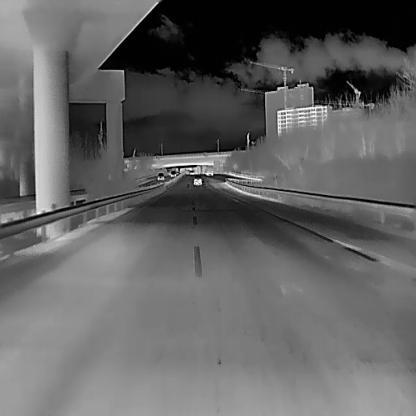car: (193, 173, 203, 185), (156, 172, 164, 180), (206, 167, 213, 175), (170, 169, 176, 176), (190, 169, 195, 175)
